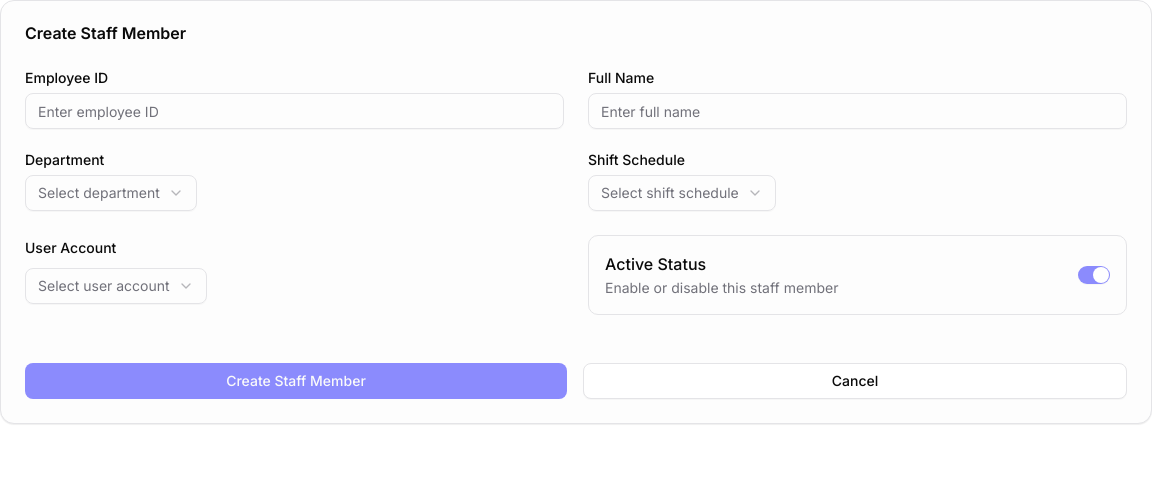
StaffForm › Department Options › should show provided departments and default options
Click the dropdown labelled "Select department". click: (111, 193)
box: [25, 175, 197, 211]
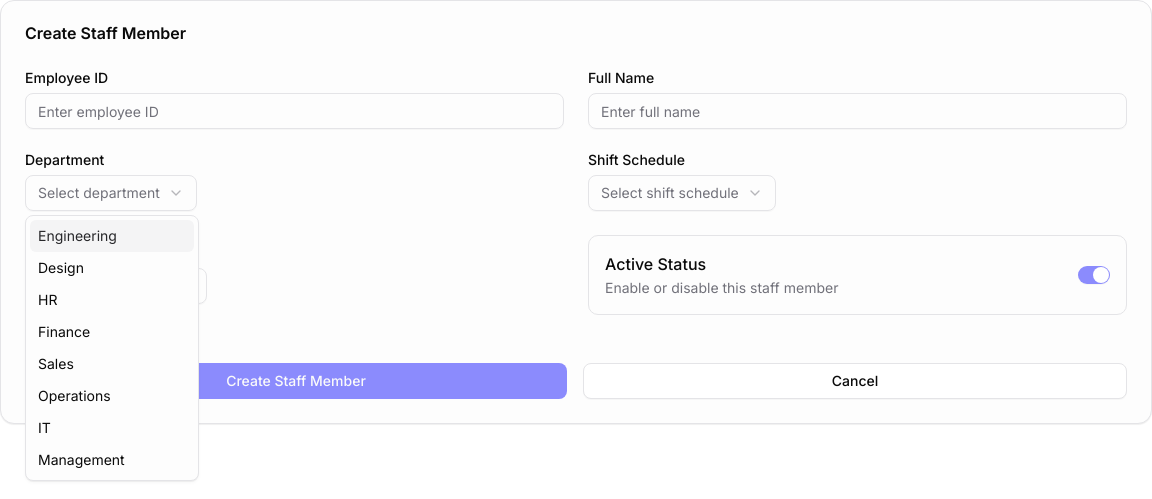
Expected: the option "Engineering" is shown, [30, 220, 194, 252]
Expected: the option "Design" is shown, [38, 259, 84, 276]
Expected: the option "HR" is shown, [38, 291, 57, 308]
